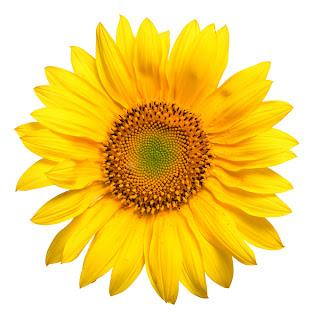sunflowers: (23, 12, 295, 301)
